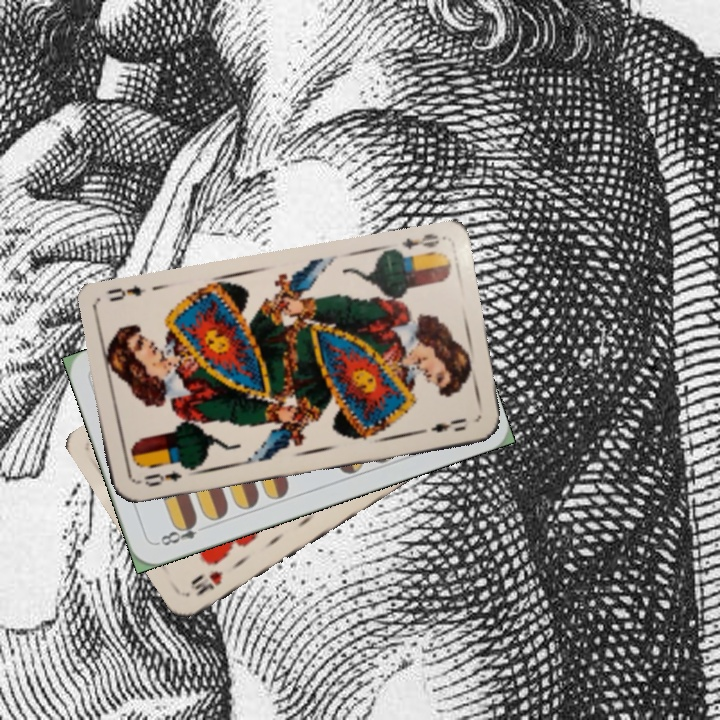E8: (153, 515, 200, 549)
EO: (139, 466, 185, 490), (398, 229, 442, 252)
H10: (186, 566, 226, 598)
